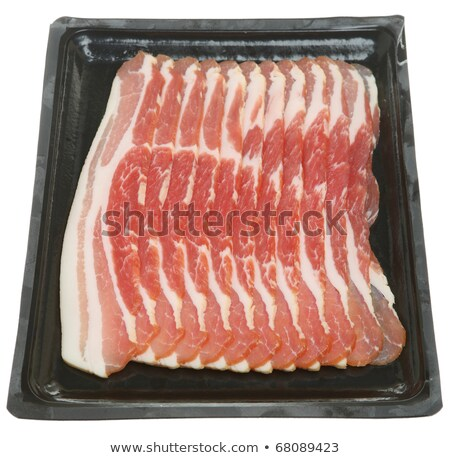bacon: (84, 61, 398, 369)
